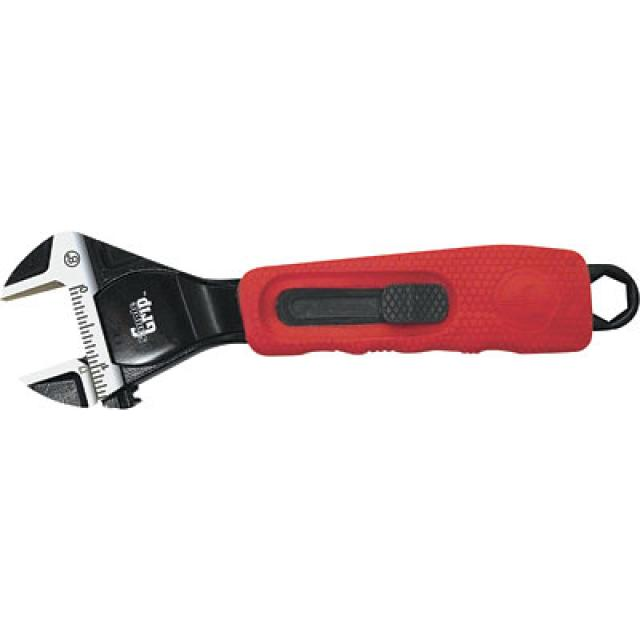wrench: (0, 165, 634, 419)
